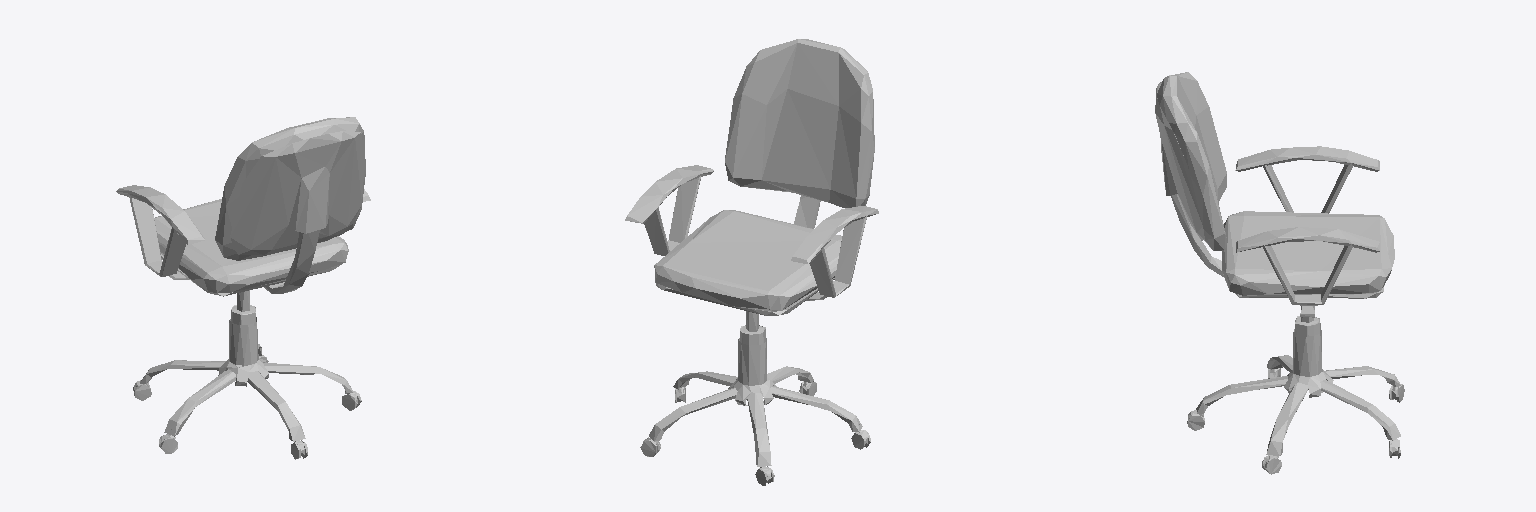
File: cadeira3.obj
3 renders of one model, left to right at view 1: azimuth 30°, elevation 25°; view 2: azimuth 150°, elevation 25°; view 3: azimuth 270°, elevation 25°, orthographic.
Parts seen in each view (by area): view 1: Chair.004_Chair.008; view 2: Chair.004_Chair.008; view 3: Chair.004_Chair.008.
Part boxes in pixels (left/top/right/bottom): Chair.004_Chair.008: left=116, top=117, right=370, bottom=459; Chair.004_Chair.008: left=625, top=39, right=878, bottom=485; Chair.004_Chair.008: left=1155, top=72, right=1404, bottom=474.
Size of the model in its own units: 4.52 by 7.52 by 4.93.